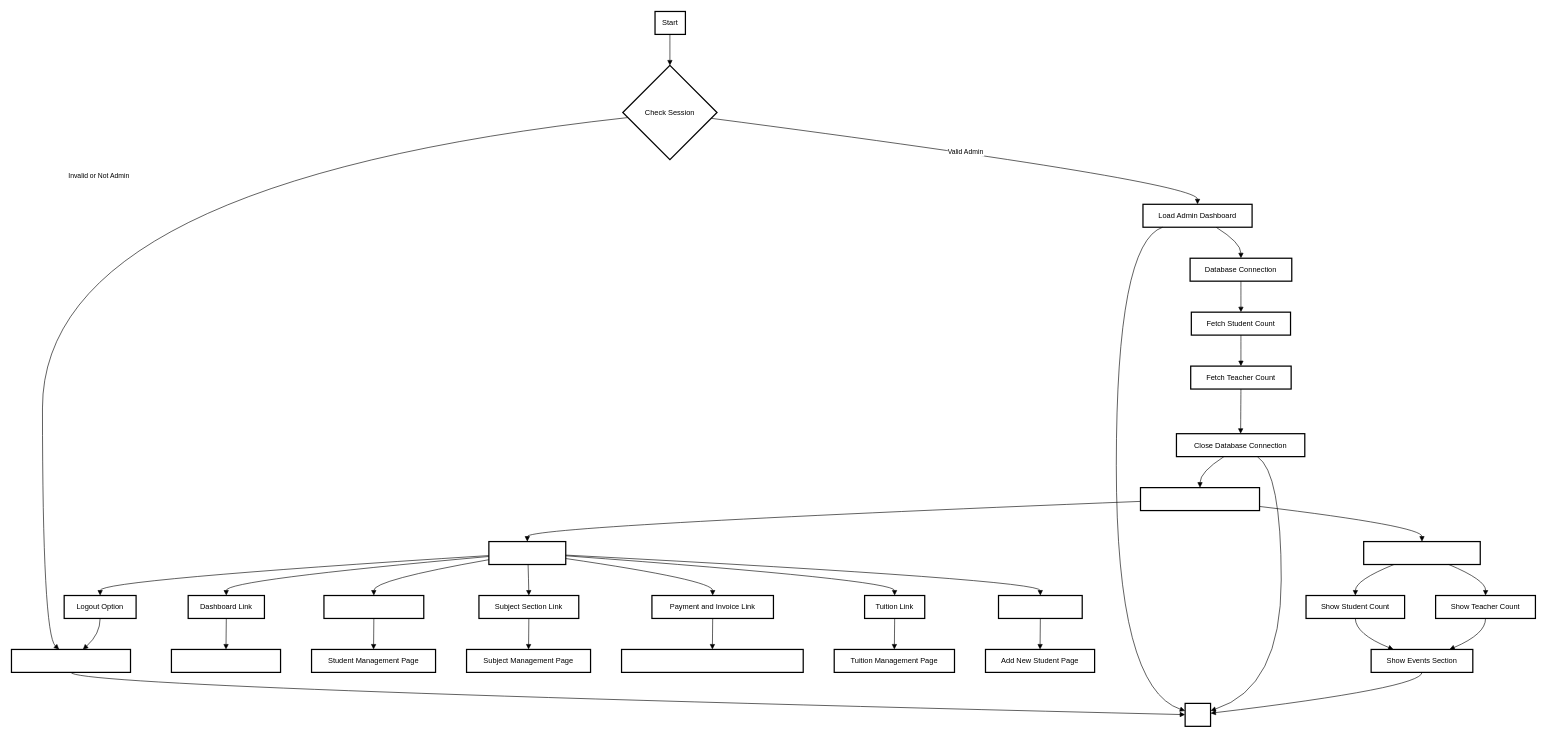
This 1546x737 diagram has some shape labels left out. Each missing label, with the box of its shape:
Add Student Link: (998, 595, 1083, 619)
Admin Dashboard Page: (170, 649, 281, 673)
Display Admin Dashboard: (1140, 487, 1260, 511)
Display Dashboard Cards: (1363, 541, 1481, 565)
Display Sidebar: (488, 541, 566, 565)
End: (1184, 702, 1211, 727)
Payment and Invoice Management Page: (621, 649, 804, 673)
Redirect to ../index.php: (11, 649, 131, 673)
Student Section Link: (323, 595, 424, 619)
